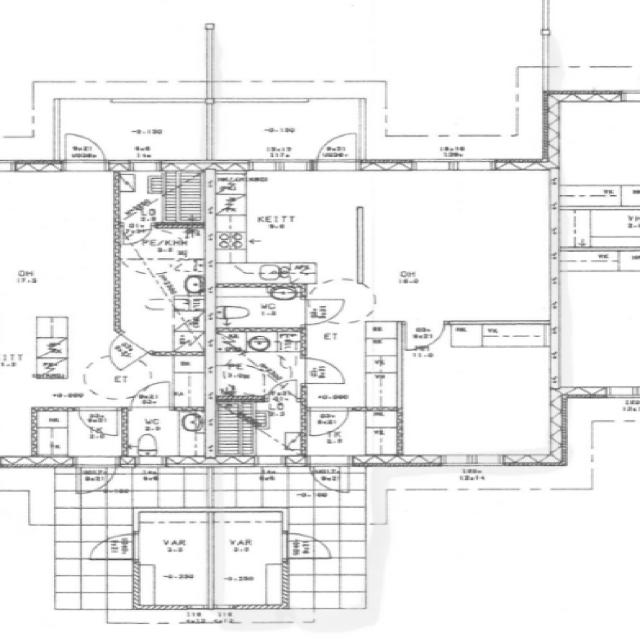door: (211, 511, 289, 611), (212, 332, 308, 402), (305, 409, 401, 464), (313, 130, 361, 169), (59, 132, 108, 170), (73, 459, 118, 495), (75, 406, 123, 439), (306, 459, 351, 494), (304, 406, 353, 438), (280, 534, 334, 562), (299, 357, 348, 387), (127, 379, 174, 410), (94, 531, 140, 562), (400, 322, 446, 351), (300, 297, 346, 325), (118, 222, 154, 245)
window: (408, 158, 499, 174), (246, 158, 312, 173), (533, 0, 557, 37)
zone: (357, 167, 552, 323), (376, 0, 538, 142), (396, 328, 556, 468), (0, 0, 212, 89), (210, 169, 364, 285), (210, 0, 374, 87), (560, 254, 640, 396), (114, 243, 204, 359), (553, 94, 640, 205), (210, 100, 360, 163), (59, 101, 209, 163), (545, 1, 640, 94), (135, 510, 210, 611), (211, 510, 285, 611), (212, 333, 306, 402), (211, 396, 304, 462), (118, 163, 204, 226), (32, 408, 128, 462), (306, 409, 400, 462), (121, 408, 206, 464), (214, 286, 306, 332), (558, 207, 640, 249), (24, 319, 72, 378), (76, 406, 124, 437)
